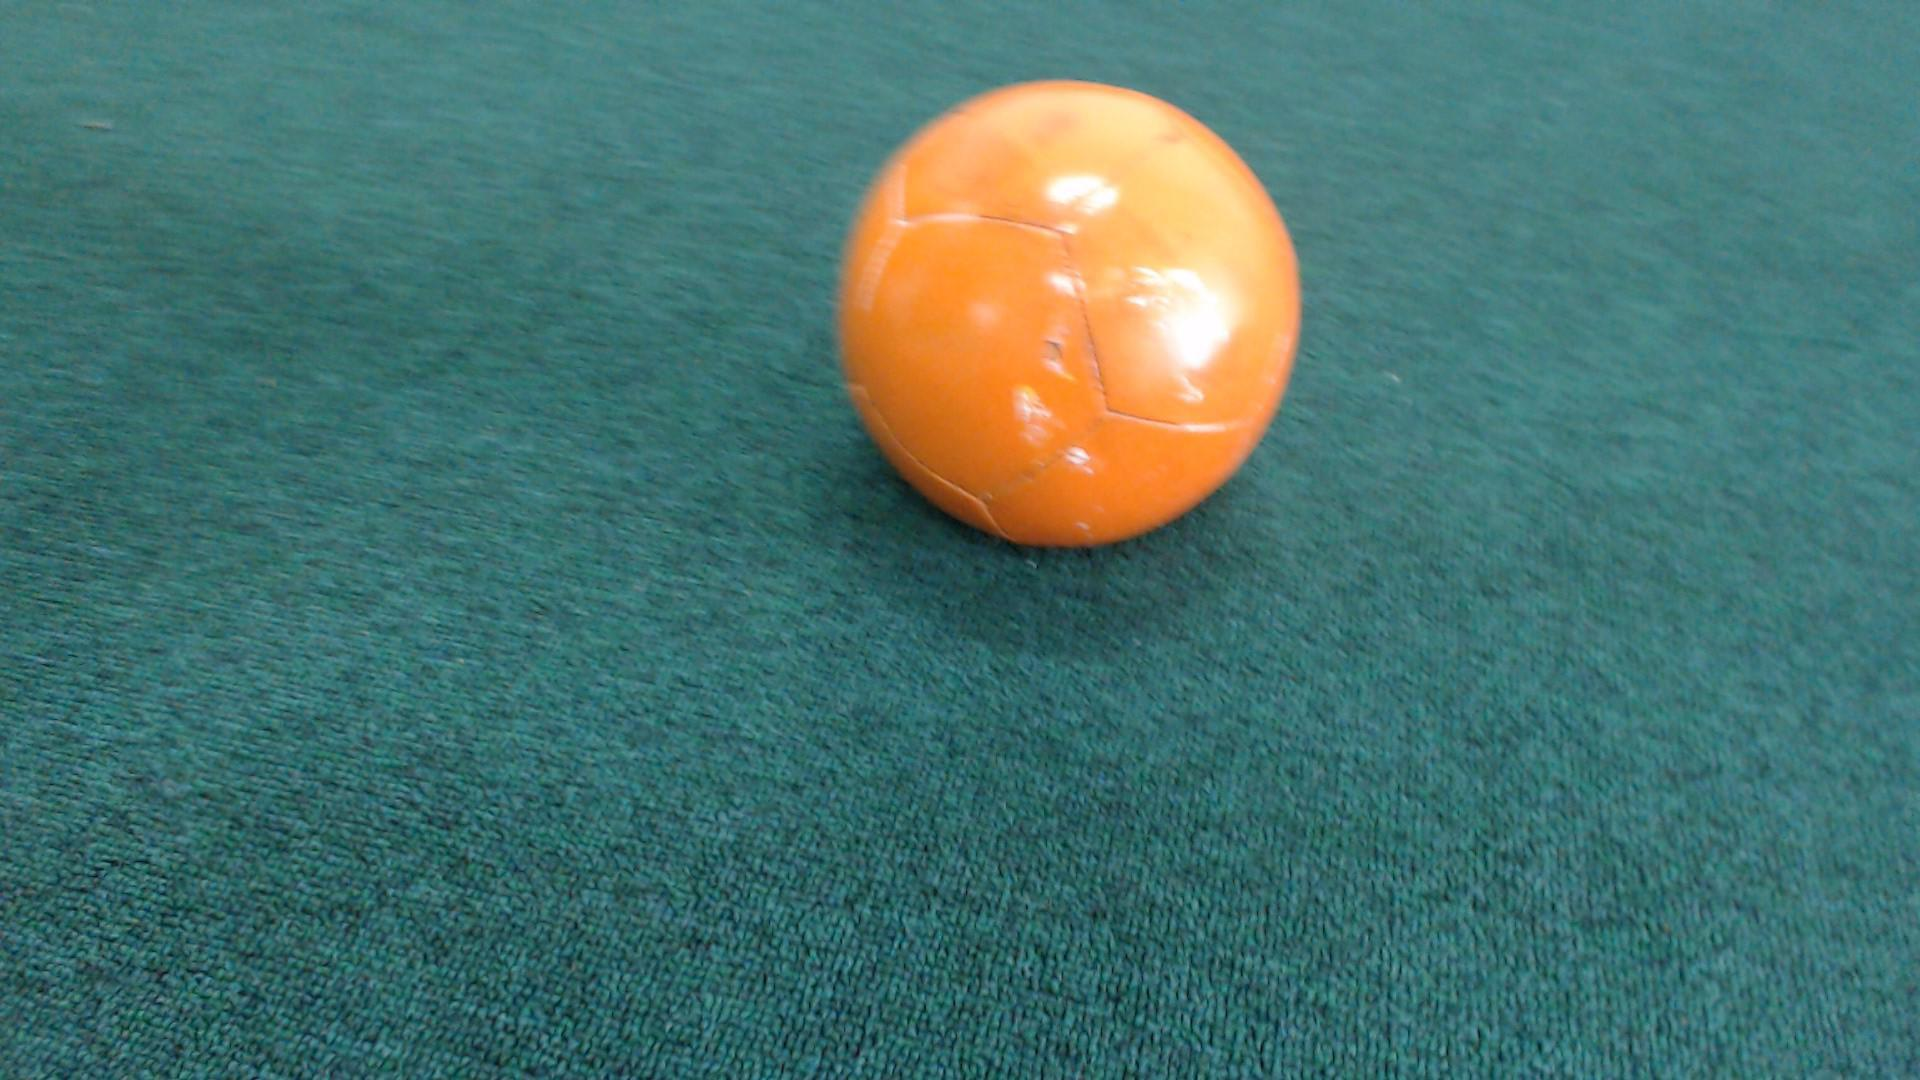bola: (808, 65, 1316, 600)
